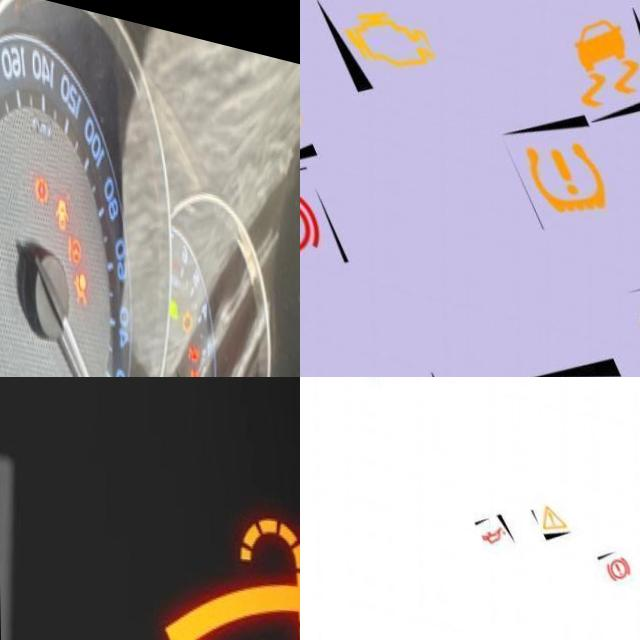Electronic Power Steering: (65, 198, 87, 251)
Washer Fluid: (161, 477, 300, 640)
